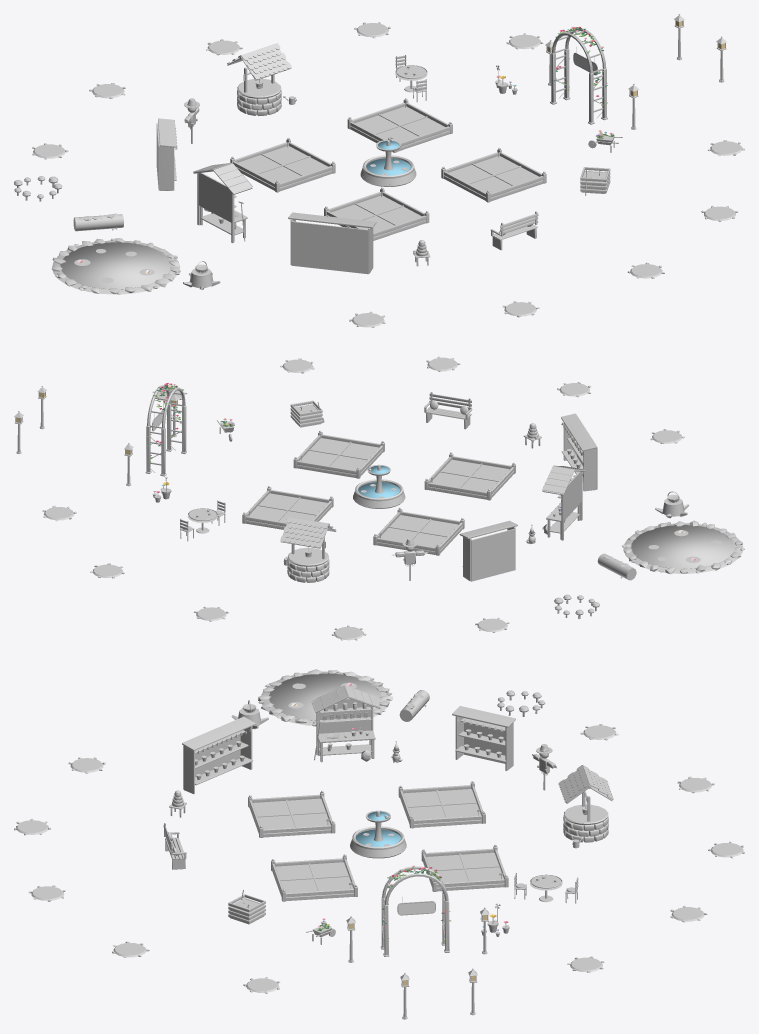
File: zon_garden_lite.glb
3 views of the same model, one above another, from view 1: azimuth 30°, elevation 25°; view 2: azimuth 150°, elevation 25°; view 3: azimuth 270°, elevation 25° (orthographic). The views are drawn at different scales.
Parts seen in each view (by area): view 1: SM_zon_garden_lite_kit_garden_xm1_z0_LOD0, SM_zon_garden_lite_garden_water_xm1_z0, SM_zon_garden_lite_vc_palette_xm1_z0_LOD0; view 2: SM_zon_garden_lite_kit_garden_xm1_z0_LOD0, SM_zon_garden_lite_garden_water_xm1_z0; view 3: SM_zon_garden_lite_kit_garden_xm1_z0_LOD0, SM_zon_garden_lite_garden_water_xm1_z0.
Part boxes in pixels (x1=…): SM_zon_garden_lite_kit_garden_xm1_z0_LOD0: x1=14, y1=14, x2=744, y2=327; SM_zon_garden_lite_garden_water_xm1_z0: x1=366, y1=141, x2=410, y2=175; SM_zon_garden_lite_vc_palette_xm1_z0_LOD0: x1=77, y1=26, x2=614, y2=273; SM_zon_garden_lite_kit_garden_xm1_z0_LOD0: x1=14, y1=356, x2=744, y2=640; SM_zon_garden_lite_garden_water_xm1_z0: x1=358, y1=465, x2=400, y2=498; SM_zon_garden_lite_kit_garden_xm1_z0_LOD0: x1=14, y1=669, x2=744, y2=1019; SM_zon_garden_lite_garden_water_xm1_z0: x1=355, y1=811, x2=400, y2=846.
Bounding box in the file's own units: 33.62 × 3.85 × 29.75.
